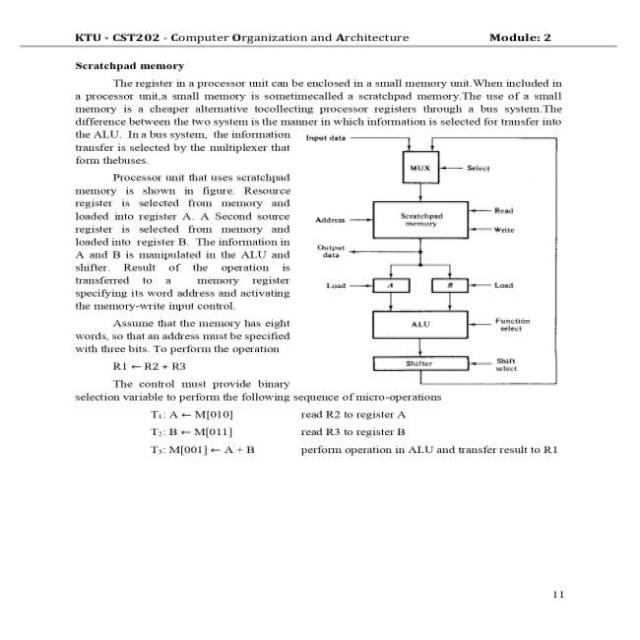Figure Detection - v3 Dataset Version2: (300, 127, 584, 390)
